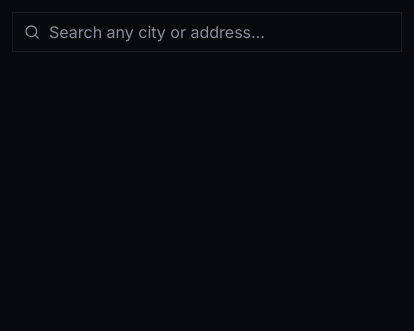
Test: LocationSearch › reopens a dismissed list with arrow keys and clears the active descendant on Escape
Focus the dropdown at (207, 32), box [12,12,402,52]
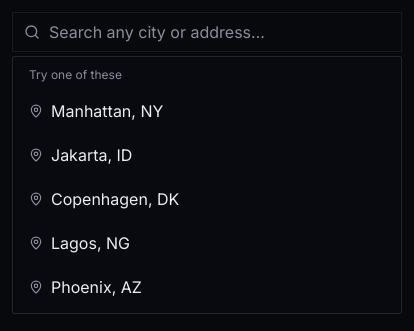
Press ArrowDown in the dropdown, box [12,12,402,52]
Press Escape in the dropdown, box [12,12,402,52]
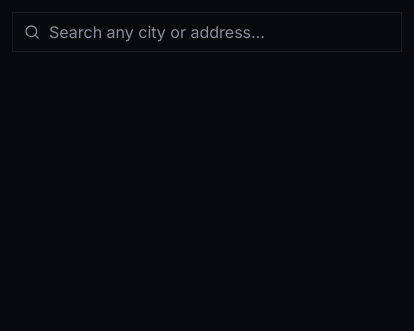
Press ArrowDown in the dropdown, box [12,12,402,52]
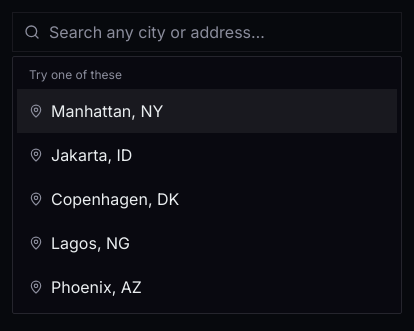
Now the list is shown
